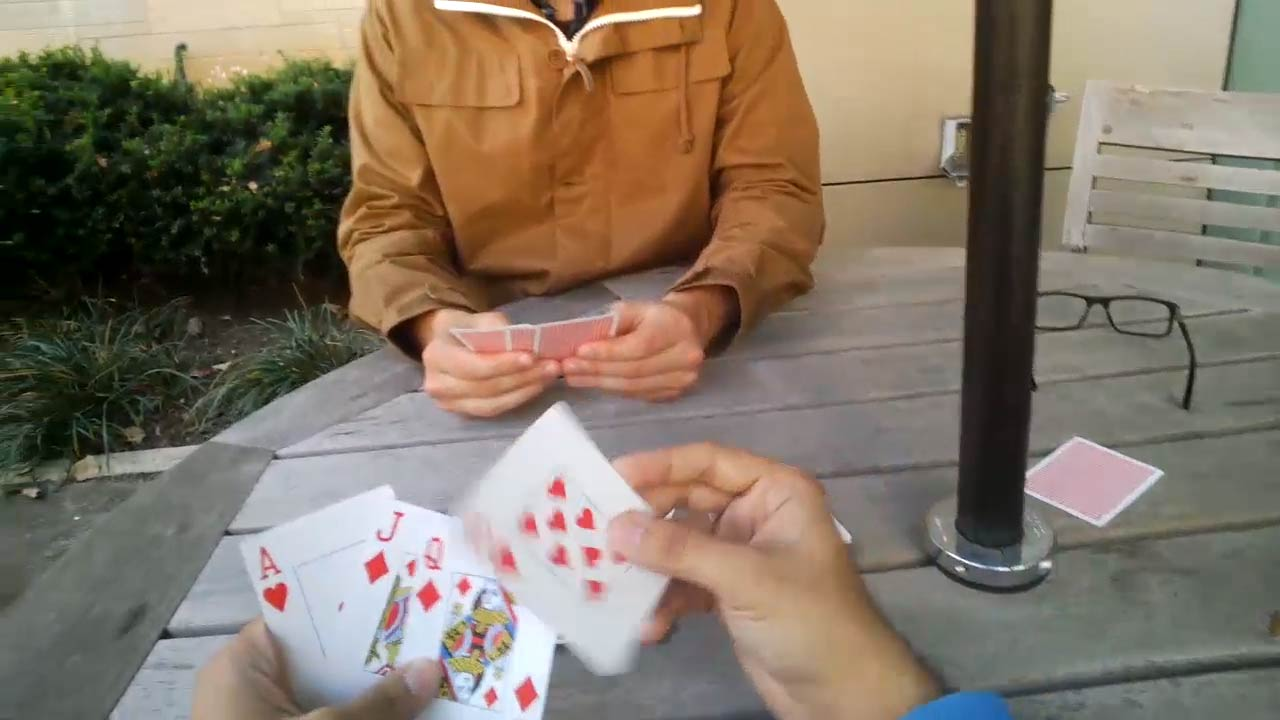hand: (604, 444, 932, 718), (194, 619, 438, 718), (566, 294, 708, 392), (421, 313, 553, 416)
